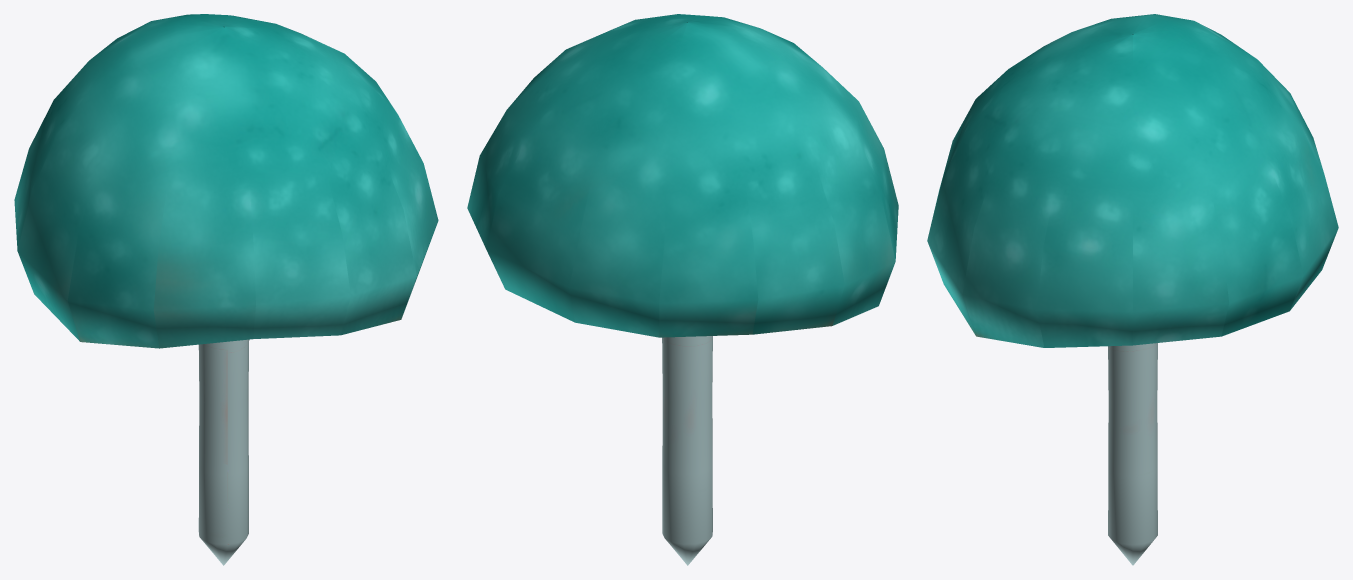
Rendered from Seta basica textura.fbx.
The picture shows the model from 3 angles, left to right: view 1: azimuth 30°, elevation 25°; view 2: azimuth 150°, elevation 25°; view 3: azimuth 270°, elevation 25°; orthographic projection. The views are drawn at different scales.
Visible parts, largest first — view 1: pasted__pasted__nurbsToPoly1; view 2: pasted__pasted__nurbsToPoly1; view 3: pasted__pasted__nurbsToPoly1.
Boxes of the visible parts, x1,y1,x2,y2 form: pasted__pasted__nurbsToPoly1: (14,14,438,565); pasted__pasted__nurbsToPoly1: (467,14,898,565); pasted__pasted__nurbsToPoly1: (927,14,1338,565).
Size of the model in its own units: 36.2 by 50.56 by 35.45.
1 material, 1 textured.
